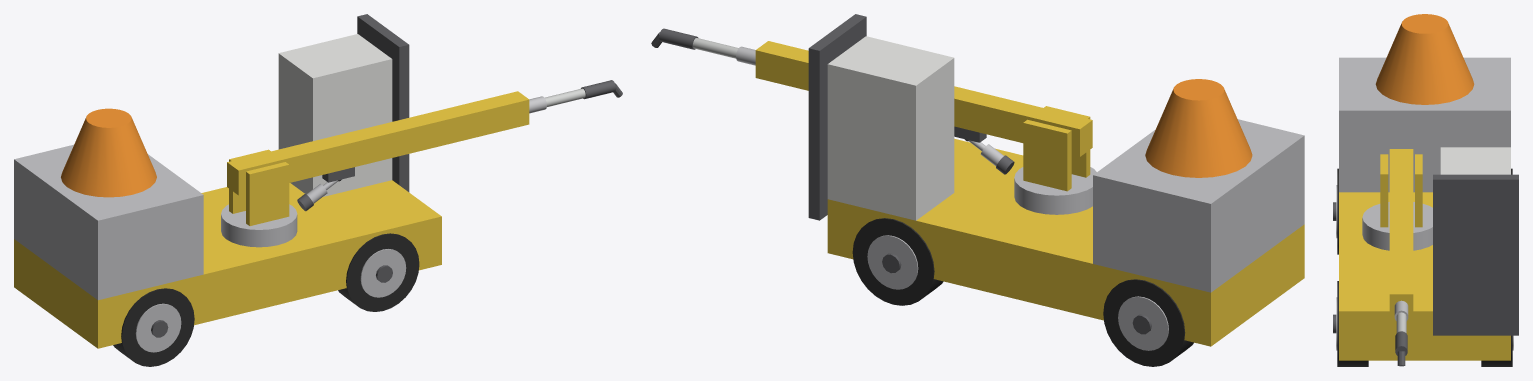
The model's file is SM_GunningManipulator.fbx.
3 renders of one model, left to right at view 1: azimuth 30°, elevation 25°; view 2: azimuth 150°, elevation 25°; view 3: azimuth 270°, elevation 25°, orthographic. The views are drawn at different scales.
Visible parts, largest first — view 1: GMN_Carrier, GMN_Boom, GMN_Turret, GMN_Wheel_FR, GMN_Wheel_RR; view 2: GMN_Carrier, GMN_Boom, GMN_Turret, GMN_Wheel_RL, GMN_Wheel_FL, GMN_NozzleHead, GMN_Lance2; view 3: GMN_Carrier, GMN_Boom, GMN_Turret, GMN_Wheel_FR, GMN_NozzleHead, GMN_Wheel_FL, GMN_Wheel_RR, GMN_Lance1, GMN_Lance2.
Part boxes in pixels (bbox=[...]): GMN_Carrier: bbox=[14, 14, 441, 348]; GMN_Boom: bbox=[227, 91, 529, 195]; GMN_Turret: bbox=[221, 149, 297, 247]; GMN_Wheel_FR: bbox=[338, 233, 419, 311]; GMN_Wheel_RR: bbox=[113, 288, 194, 366]; GMN_Carrier: bbox=[808, 14, 1304, 346]; GMN_Boom: bbox=[755, 41, 1092, 156]; GMN_Turret: bbox=[1014, 106, 1096, 214]; GMN_Wheel_RL: bbox=[1103, 279, 1193, 366]; GMN_Wheel_FL: bbox=[852, 218, 943, 305]; GMN_NozzleHead: bbox=[651, 28, 698, 49]; GMN_Lance2: bbox=[693, 38, 738, 58]; GMN_Carrier: bbox=[1339, 14, 1518, 360]; GMN_Boom: bbox=[1389, 149, 1413, 319]; GMN_Turret: bbox=[1362, 154, 1432, 250]; GMN_Wheel_FR: bbox=[1333, 281, 1368, 366]; GMN_NozzleHead: bbox=[1395, 331, 1407, 366]; GMN_Wheel_FL: bbox=[1481, 335, 1513, 366]; GMN_Wheel_RR: bbox=[1333, 168, 1338, 254]; GMN_Lance1: bbox=[1394, 300, 1408, 320]; GMN_Lance2: bbox=[1396, 312, 1406, 332].
Bounding box in the file's own units: 839 × 315 × 238.
